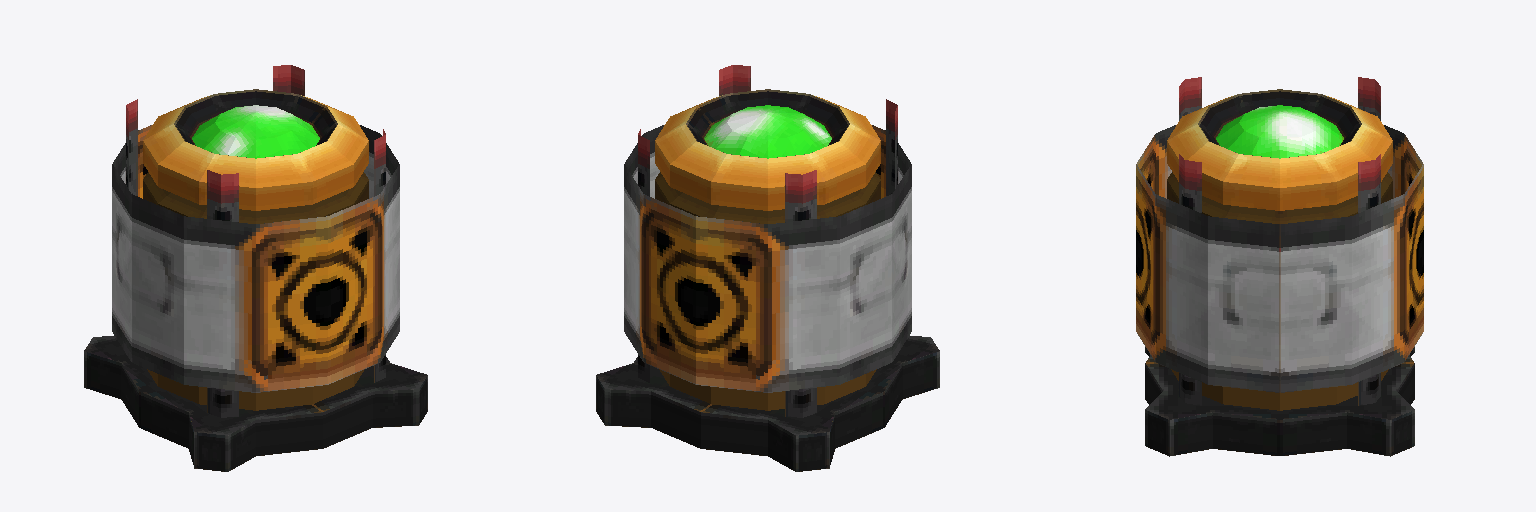
3 views of the same model, side by side, from view 1: azimuth 30°, elevation 25°; view 2: azimuth 150°, elevation 25°; view 3: azimuth 270°, elevation 25° (orthographic).
Parts seen in each view (by area): view 1: Object01; view 2: Object01; view 3: Object01.
Part boxes in pixels (left/top/right/bottom): Object01: left=84, top=65, right=427, bottom=471; Object01: left=596, top=65, right=939, bottom=471; Object01: left=1136, top=77, right=1423, bottom=456.
Bounding box in the file's own units: 21.74 × 24 × 21.75.
Materials: 1 (1 with a texture image).